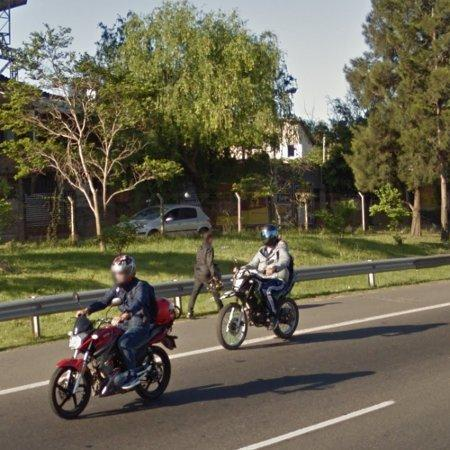motorcycles: (49, 317, 128, 419), (217, 267, 300, 350), (134, 299, 177, 400)
